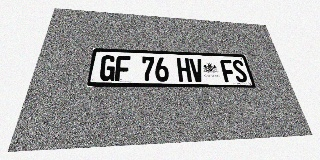6: (155, 57, 169, 82)
7: (141, 56, 155, 81)
F: (220, 59, 237, 82), (115, 56, 130, 81)
G: (99, 55, 116, 81)
H: (176, 58, 192, 82)
S: (231, 60, 249, 82)
V: (189, 58, 205, 82)
